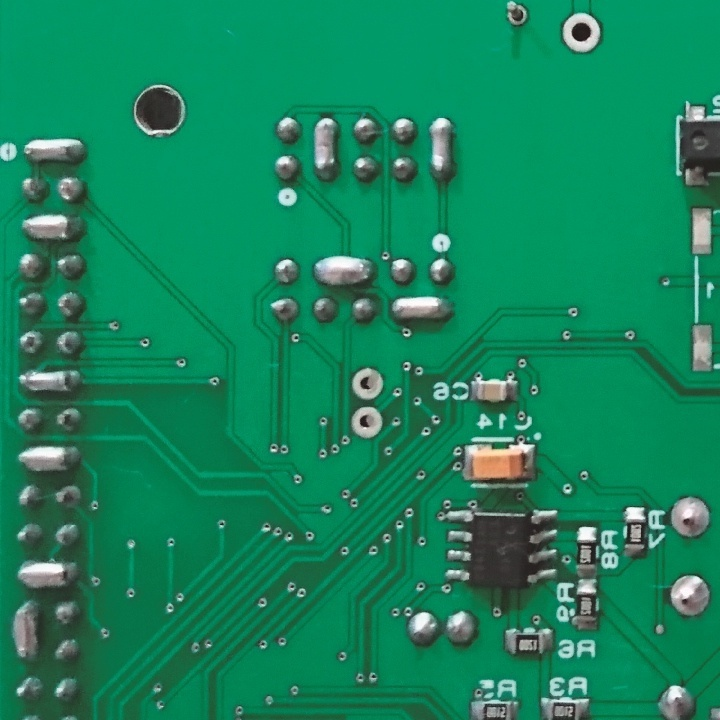F: (667, 572, 713, 621), (667, 495, 713, 540), (559, 12, 602, 55), (347, 402, 384, 443), (349, 365, 387, 402), (501, 1, 529, 31)
P: (7, 596, 47, 664), (14, 555, 87, 590), (13, 442, 84, 477), (18, 211, 88, 245), (387, 292, 451, 329), (425, 115, 459, 182), (310, 254, 377, 288), (16, 367, 87, 397), (19, 135, 88, 165), (310, 114, 339, 181)
